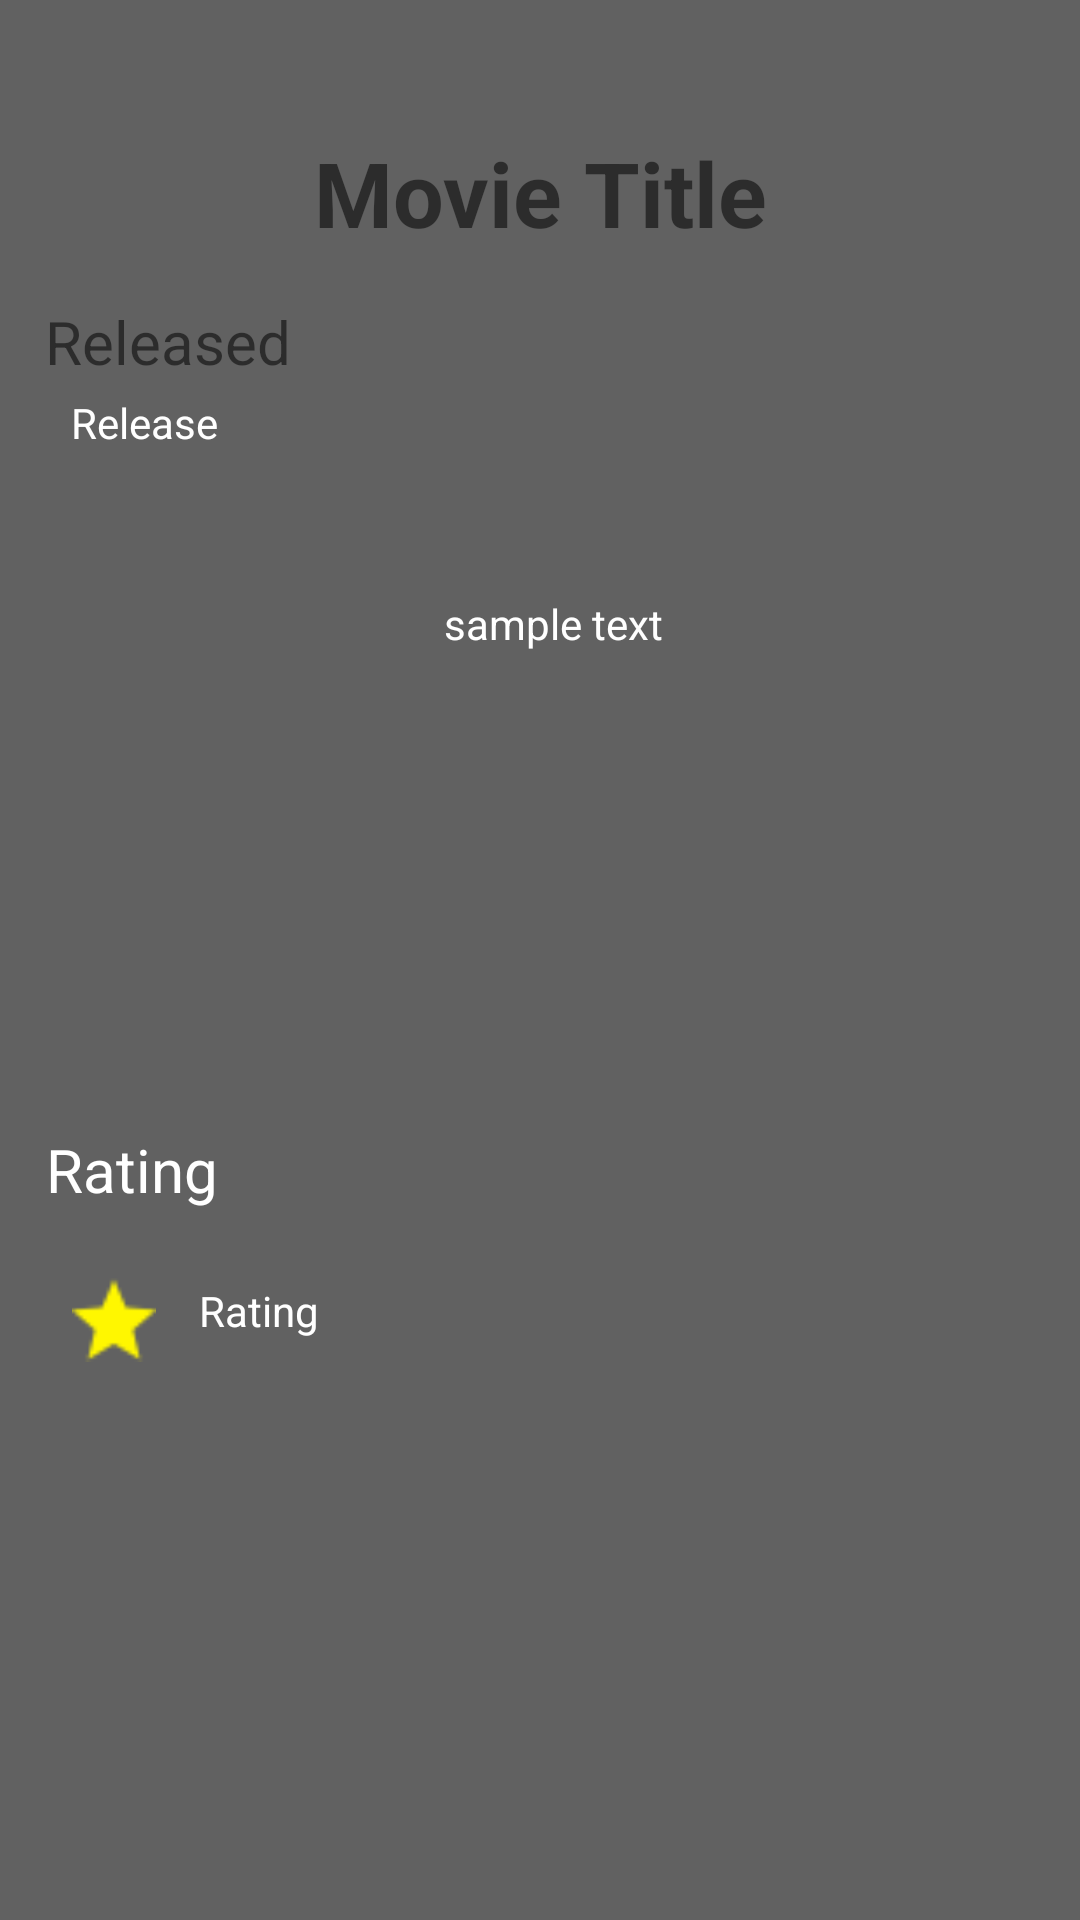

Point at icon controls on the screen. Image size 1080px×1920px, points as (x,y).
Star icon: (114,1319)
